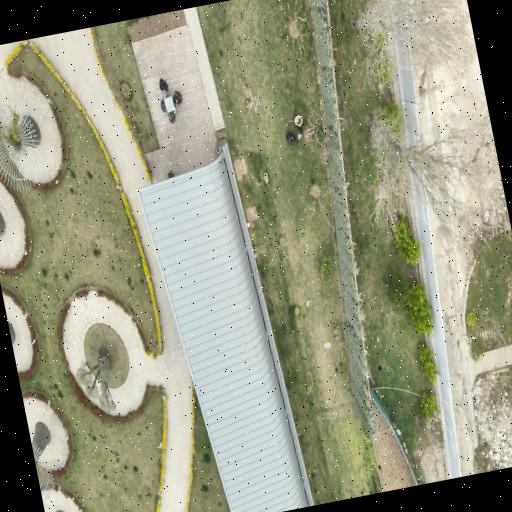person: (158, 77, 167, 92), (173, 90, 181, 104), (174, 91, 182, 105), (286, 132, 296, 143)
